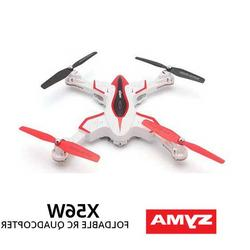drone: (19, 52, 228, 166)
